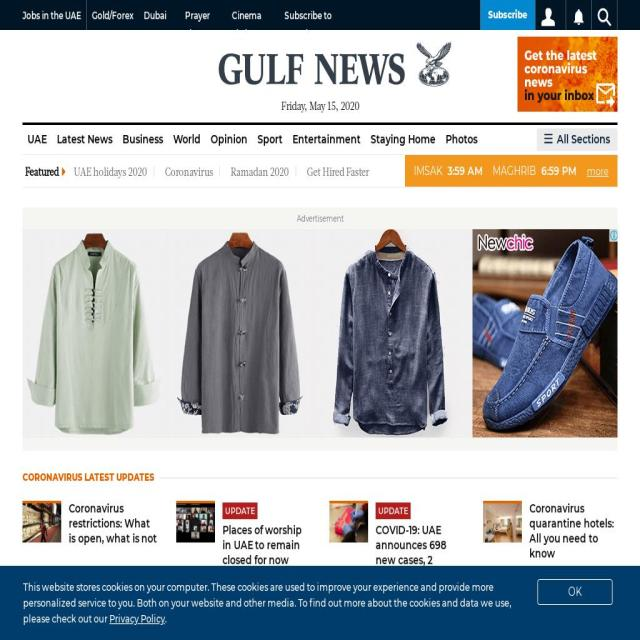button: (291, 158, 372, 189), (279, 0, 362, 30), (72, 158, 150, 189), (215, 158, 292, 189), (288, 125, 366, 153), (366, 125, 440, 153), (70, 153, 141, 182), (150, 158, 216, 189), (538, 579, 613, 605), (22, 0, 86, 30), (537, 128, 617, 152), (52, 125, 117, 153), (444, 153, 504, 182), (22, 501, 62, 542), (329, 501, 369, 542), (482, 501, 522, 542), (481, 0, 535, 30), (176, 501, 215, 542), (173, 153, 228, 182), (227, 0, 280, 30), (87, 0, 139, 30), (22, 158, 72, 189), (180, 0, 228, 30), (118, 125, 168, 153), (22, 153, 70, 182), (22, 189, 64, 221), (205, 125, 252, 153), (138, 0, 180, 30), (290, 153, 333, 182), (333, 153, 374, 182), (440, 125, 482, 153), (407, 153, 444, 182), (168, 125, 206, 153), (252, 125, 288, 153), (374, 153, 407, 182), (141, 153, 173, 182), (228, 153, 259, 182), (259, 153, 290, 182), (22, 125, 52, 153), (566, 0, 592, 30), (592, 0, 617, 30), (536, 0, 560, 30)
heading: (528, 501, 614, 561), (376, 522, 446, 582), (68, 501, 158, 546), (222, 522, 302, 568), (253, 617, 388, 640), (22, 472, 154, 483)
iframe: (22, 229, 628, 438), (518, 36, 618, 112), (419, 638, 607, 640)
image: (219, 36, 451, 92), (22, 501, 62, 540), (329, 501, 369, 540), (482, 501, 522, 540), (176, 501, 215, 540), (540, 8, 556, 26), (597, 8, 612, 26), (572, 8, 586, 26), (544, 132, 552, 144), (60, 166, 68, 176)
link: (109, 613, 165, 625), (586, 164, 609, 178)
text: (23, 581, 511, 625), (22, 36, 172, 116), (204, 98, 436, 116), (554, 132, 610, 146), (492, 164, 537, 178), (536, 164, 577, 178), (443, 164, 483, 178), (31, 621, 72, 632), (25, 167, 59, 179), (414, 164, 443, 178), (224, 506, 255, 516), (378, 506, 409, 516), (144, 9, 166, 22), (144, 28, 162, 40), (165, 613, 167, 625)
